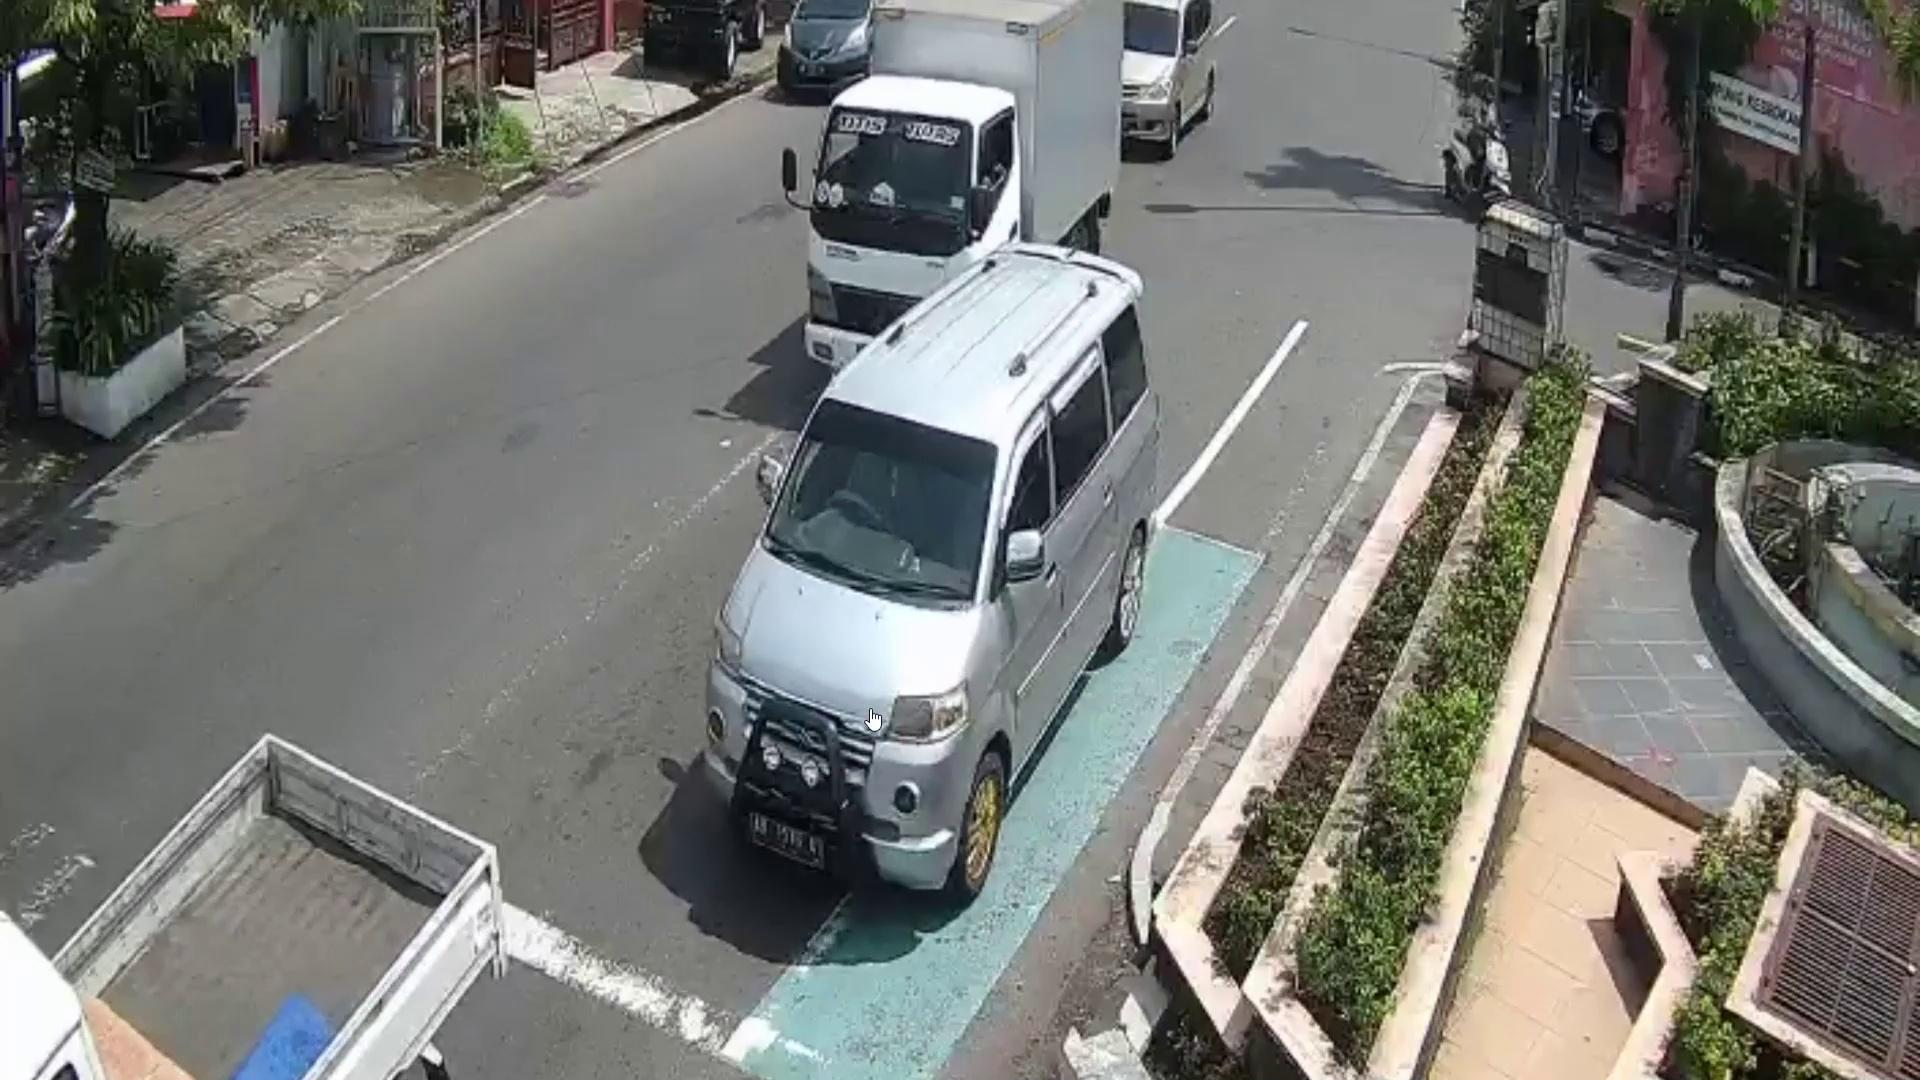car: (705, 239, 1156, 890), (1122, 0, 1213, 153), (773, 0, 870, 100), (1448, 125, 1507, 219)
truck: (807, 0, 1122, 368)
